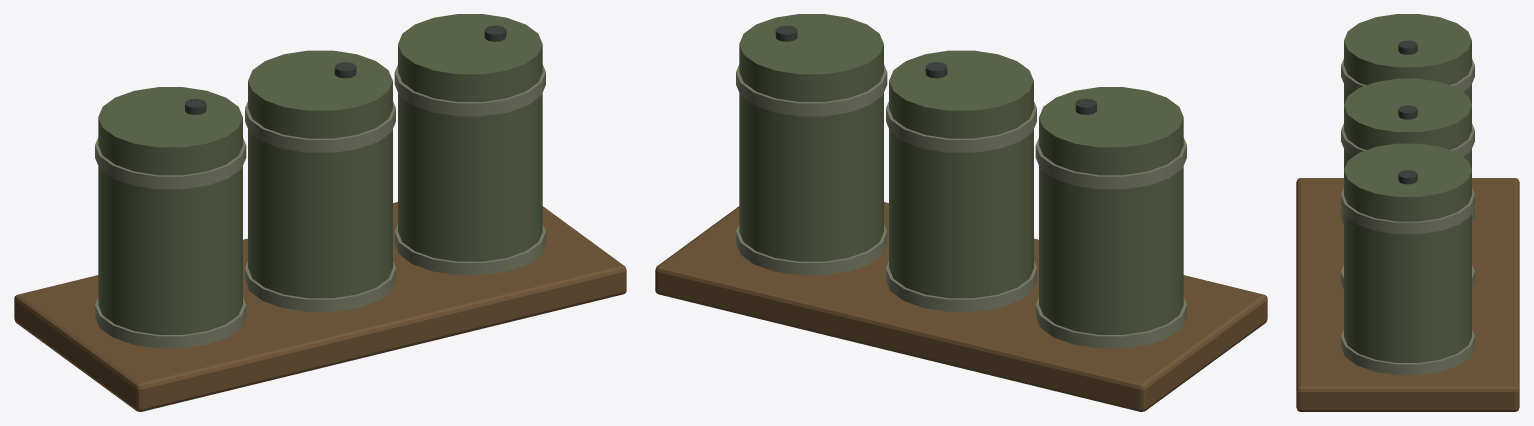
File: prop-rocket-fuel.glb
The picture shows the model from 3 angles, left to right: view 1: azimuth 30°, elevation 25°; view 2: azimuth 150°, elevation 25°; view 3: azimuth 270°, elevation 25°; orthographic projection. The views are drawn at different scales.
Parts seen in each view (by area): view 1: Armor, Timber, EdgeSteel, Steel; view 2: Armor, Timber, EdgeSteel, Steel; view 3: Armor, Timber, EdgeSteel, Steel.
Boxes of the visible parts, bbox=[...] form: Armor: bbox=[98, 14, 542, 334]; Timber: bbox=[14, 202, 626, 411]; EdgeSteel: bbox=[95, 64, 545, 348]; Steel: bbox=[185, 25, 506, 114]; Armor: bbox=[739, 14, 1183, 334]; Timber: bbox=[655, 202, 1267, 411]; EdgeSteel: bbox=[736, 64, 1186, 348]; Steel: bbox=[775, 25, 1096, 114]; Armor: bbox=[1344, 14, 1471, 362]; Timber: bbox=[1296, 178, 1519, 411]; EdgeSteel: bbox=[1341, 59, 1474, 374]; Steel: bbox=[1398, 40, 1417, 184].
Bounding box in the file's own units: 1.8 × 0.8275 × 0.8.
